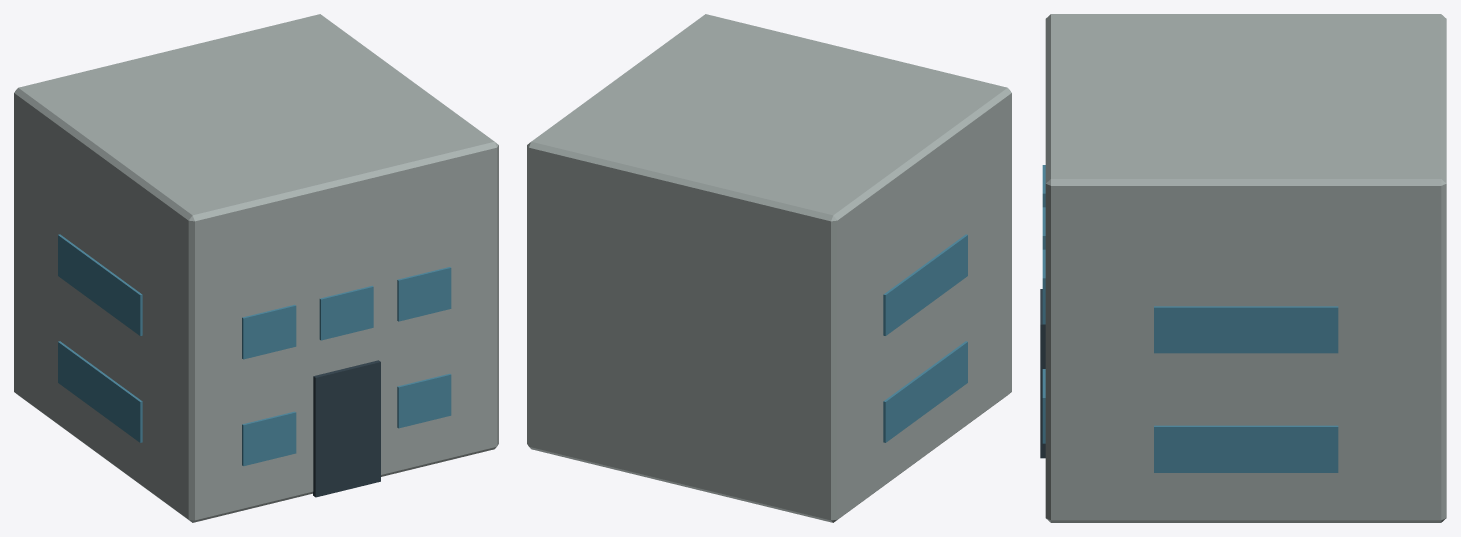
Rendered from neutral-high.glb.
The picture shows the model from 3 angles, left to right: view 1: azimuth 30°, elevation 25°; view 2: azimuth 150°, elevation 25°; view 3: azimuth 270°, elevation 25°; orthographic projection. The views are drawn at different scales.
Parts seen in each view (by area): view 1: Neutral_Body, Neutral_Entry, Window_S_1_-1, Window_S_0_-1, Window_F_0_2, Window_F_1_1, Window_F_0_0, Window_F_1_0, Window_F_1_2; view 2: Neutral_Body, Window_S_1_-1, Window_S_0_-1; view 3: Neutral_Body, Window_S_0_1, Window_S_1_1, Neutral_Entry.
Boxes of the visible parts, x1=… form: Neutral_Body: x1=14, y1=14, x2=498, y2=522; Neutral_Entry: x1=313, y1=360, x2=380, y2=497; Window_S_1_-1: x1=58, y1=234, x2=142, y2=335; Window_S_0_-1: x1=58, y1=341, x2=142, y2=442; Window_F_0_2: x1=397, y1=373, x2=451, y2=428; Window_F_1_1: x1=319, y1=285, x2=373, y2=340; Window_F_0_0: x1=242, y1=411, x2=296, y2=466; Window_F_1_0: x1=242, y1=304, x2=296, y2=359; Window_F_1_2: x1=397, y1=267, x2=451, y2=321; Neutral_Body: x1=527, y1=14, x2=1011, y2=522; Window_S_1_-1: x1=883, y1=234, x2=967, y2=335; Window_S_0_-1: x1=883, y1=341, x2=967, y2=442; Neutral_Body: x1=1045, y1=14, x2=1446, y2=522; Window_S_0_1: x1=1154, y1=425, x2=1338, y2=472; Window_S_1_1: x1=1154, y1=306, x2=1338, y2=353; Neutral_Entry: x1=1040, y1=289, x2=1045, y2=458.
Size of the model in its own units: 3.86 by 3.6 by 3.85.
